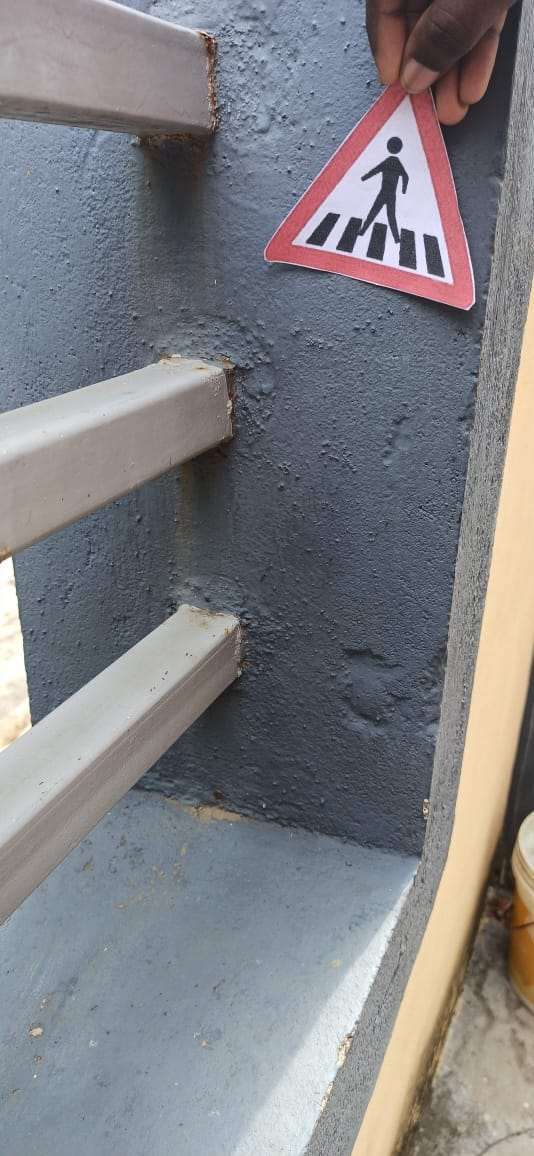PEDESTRIAN CROSSING: (252, 73, 489, 333)
